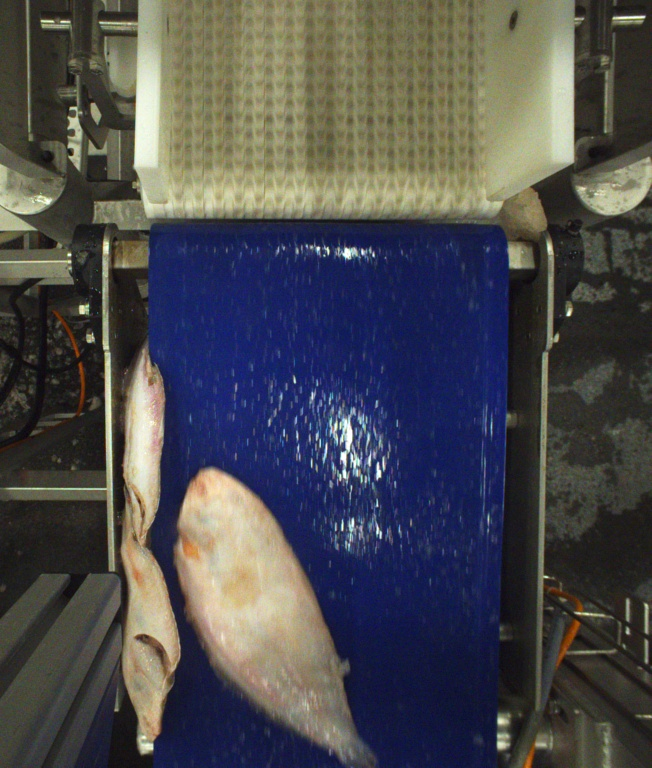SOL: (178, 463, 378, 768)
